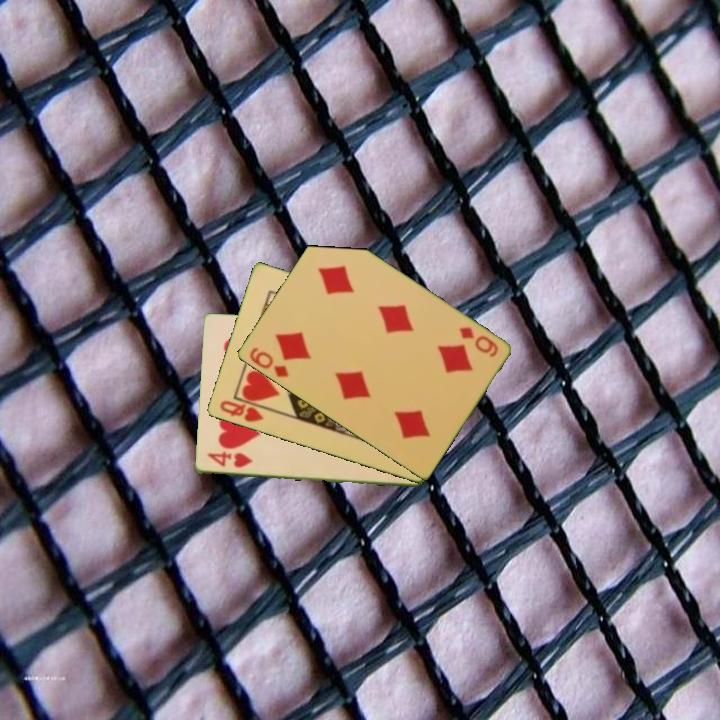4h: (203, 449, 255, 471)
6d: (455, 323, 501, 360), (245, 344, 291, 380)
Qh: (216, 397, 266, 425)
